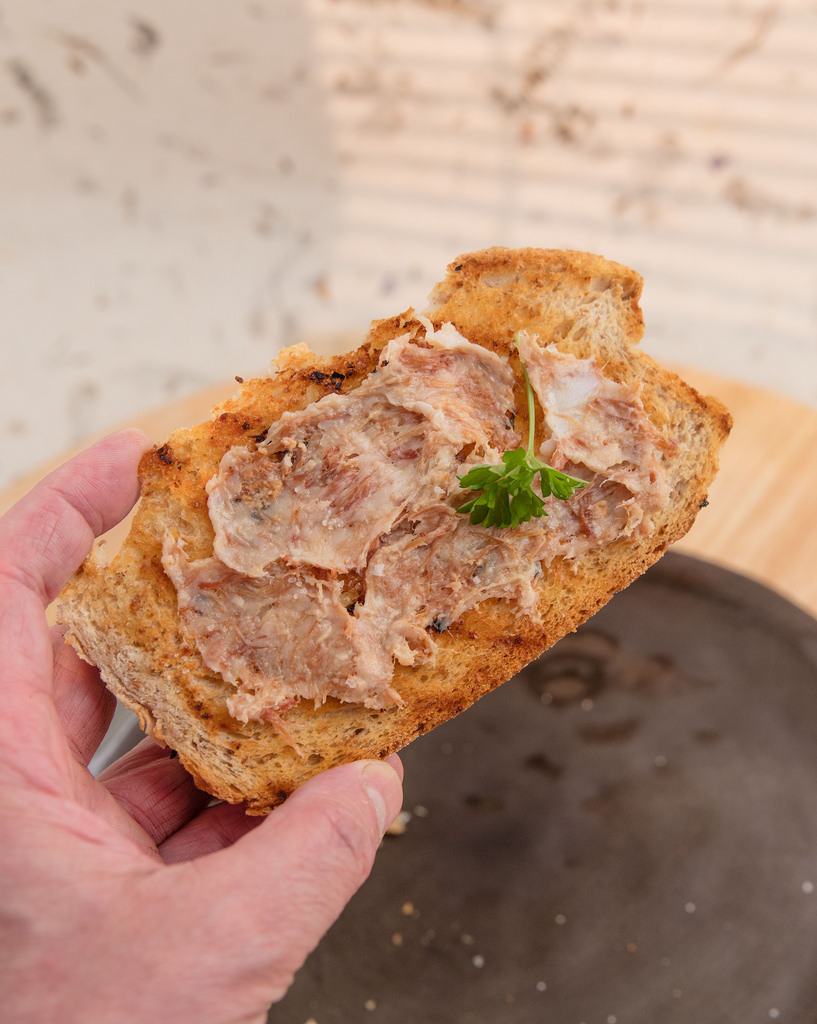slice of bread: (51, 252, 745, 834)
